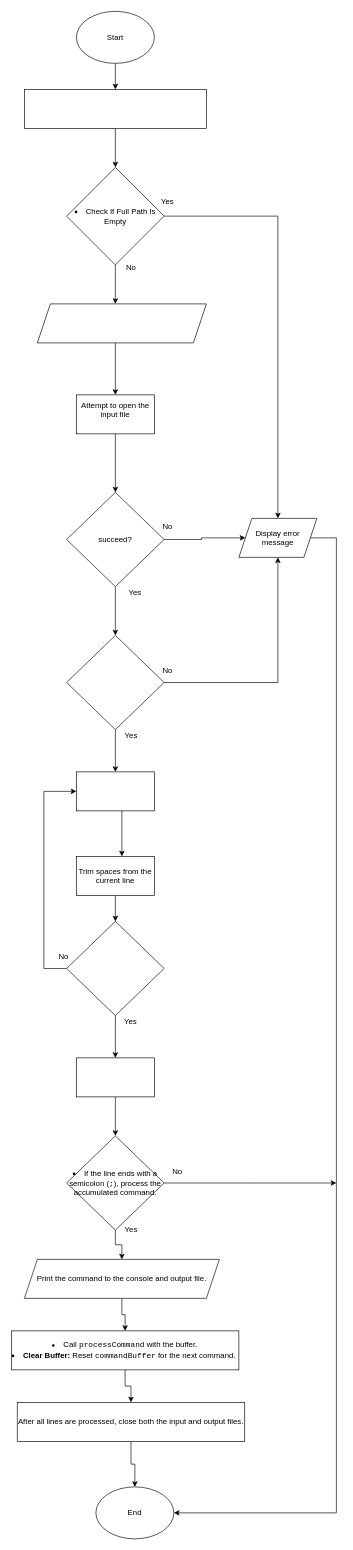
This 353x1550 diagram has some shape labels left out. The shapes that lost their labels are listed below. From the top down, each one's box as (x1, y1, x2, y2) in pixels, then its label:
(24, 89, 206, 128): Call getFullPath to resolve the full path of the input file.
(37, 303, 206, 343): Print the resolved full path of the input file.
(66, 635, 164, 730): Open Initial Output File
(76, 771, 154, 811): Read Lines From Input File
(66, 921, 164, 1016): If empty, skip processing.
(76, 1057, 154, 1097): Append the trimmed line to commandBuffer
